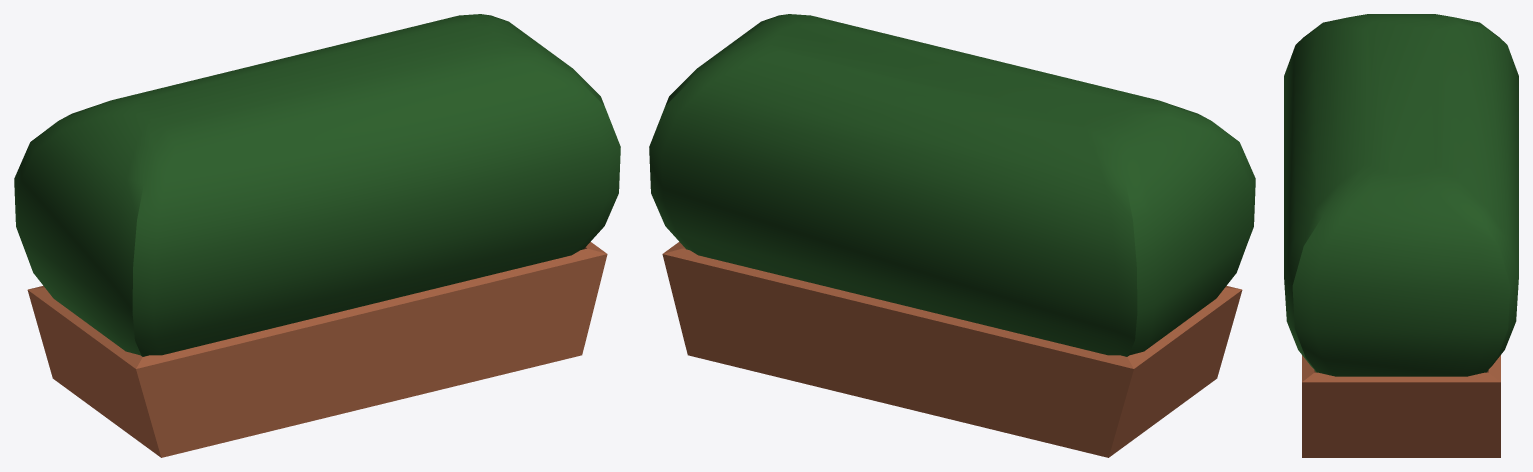
The model's file is object_B3_Plants_002.glb.
3 renders of one model, left to right at view 1: azimuth 30°, elevation 25°; view 2: azimuth 150°, elevation 25°; view 3: azimuth 270°, elevation 25°, orthographic. The views are drawn at different scales.
Parts seen in each view (by area): view 1: B3 Plants.002; view 2: B3 Plants.002; view 3: B3 Plants.002.
Boxes of the visible parts, x1=… form: B3 Plants.002: x1=14, y1=14, x2=620, y2=457; B3 Plants.002: x1=649, y1=14, x2=1255, y2=457; B3 Plants.002: x1=1284, y1=14, x2=1518, y2=457.
Bounding box in the file's own units: 0.6541 × 0.3635 × 0.2896.
